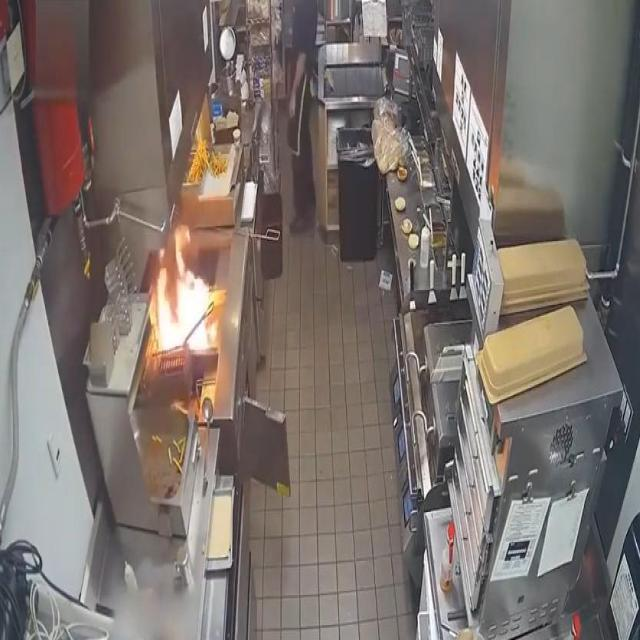smoke: (149, 210, 222, 356)
